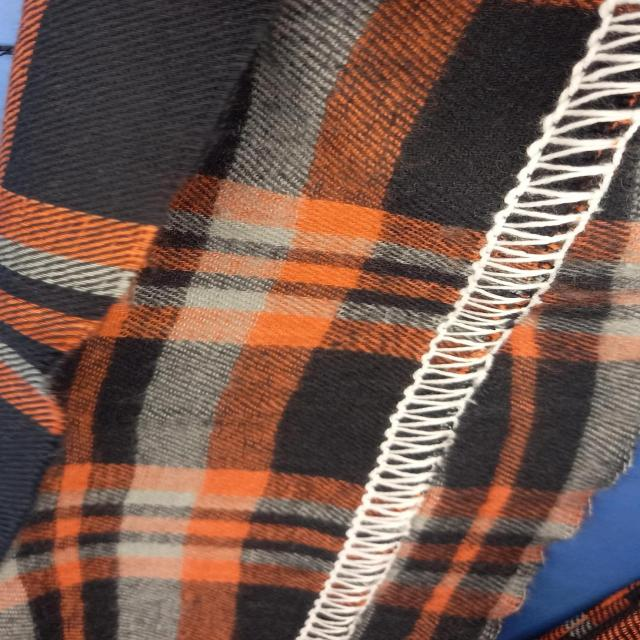gray stitch: (293, 28, 640, 635)
